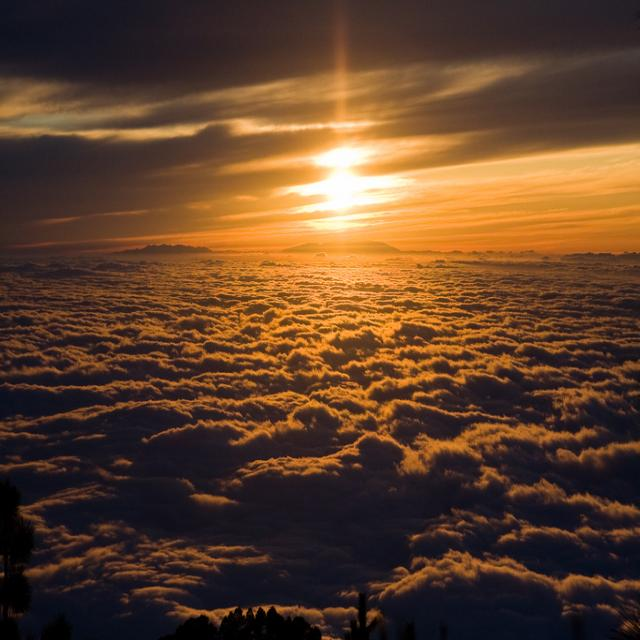no_fire: (119, 99, 579, 419)
